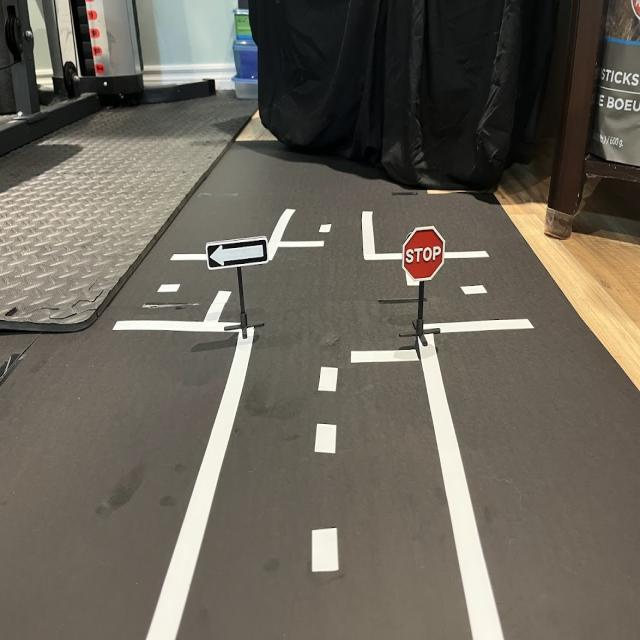sign_oneway_left: (206, 231, 273, 277)
sign_stop: (403, 227, 446, 281)
